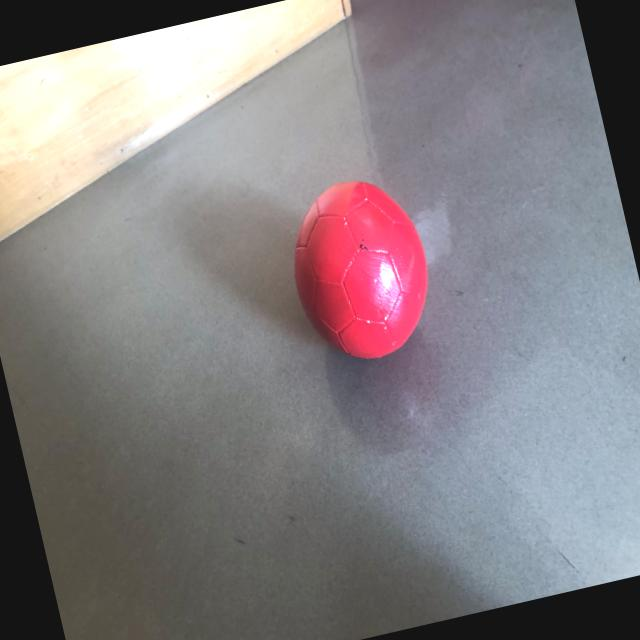red_ball: (276, 166, 444, 372)
